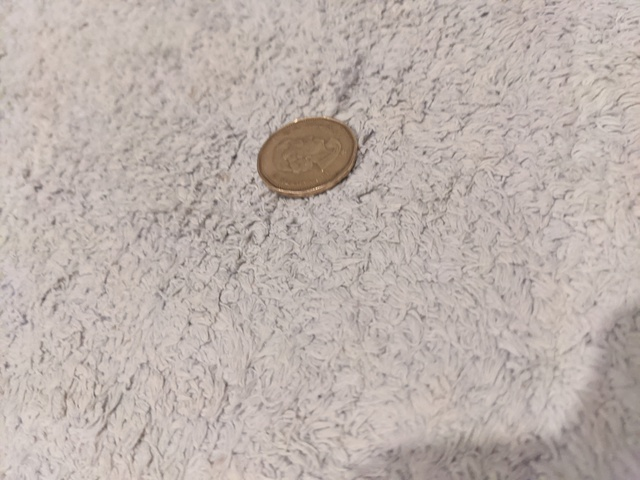loonie: (251, 114, 368, 207)
